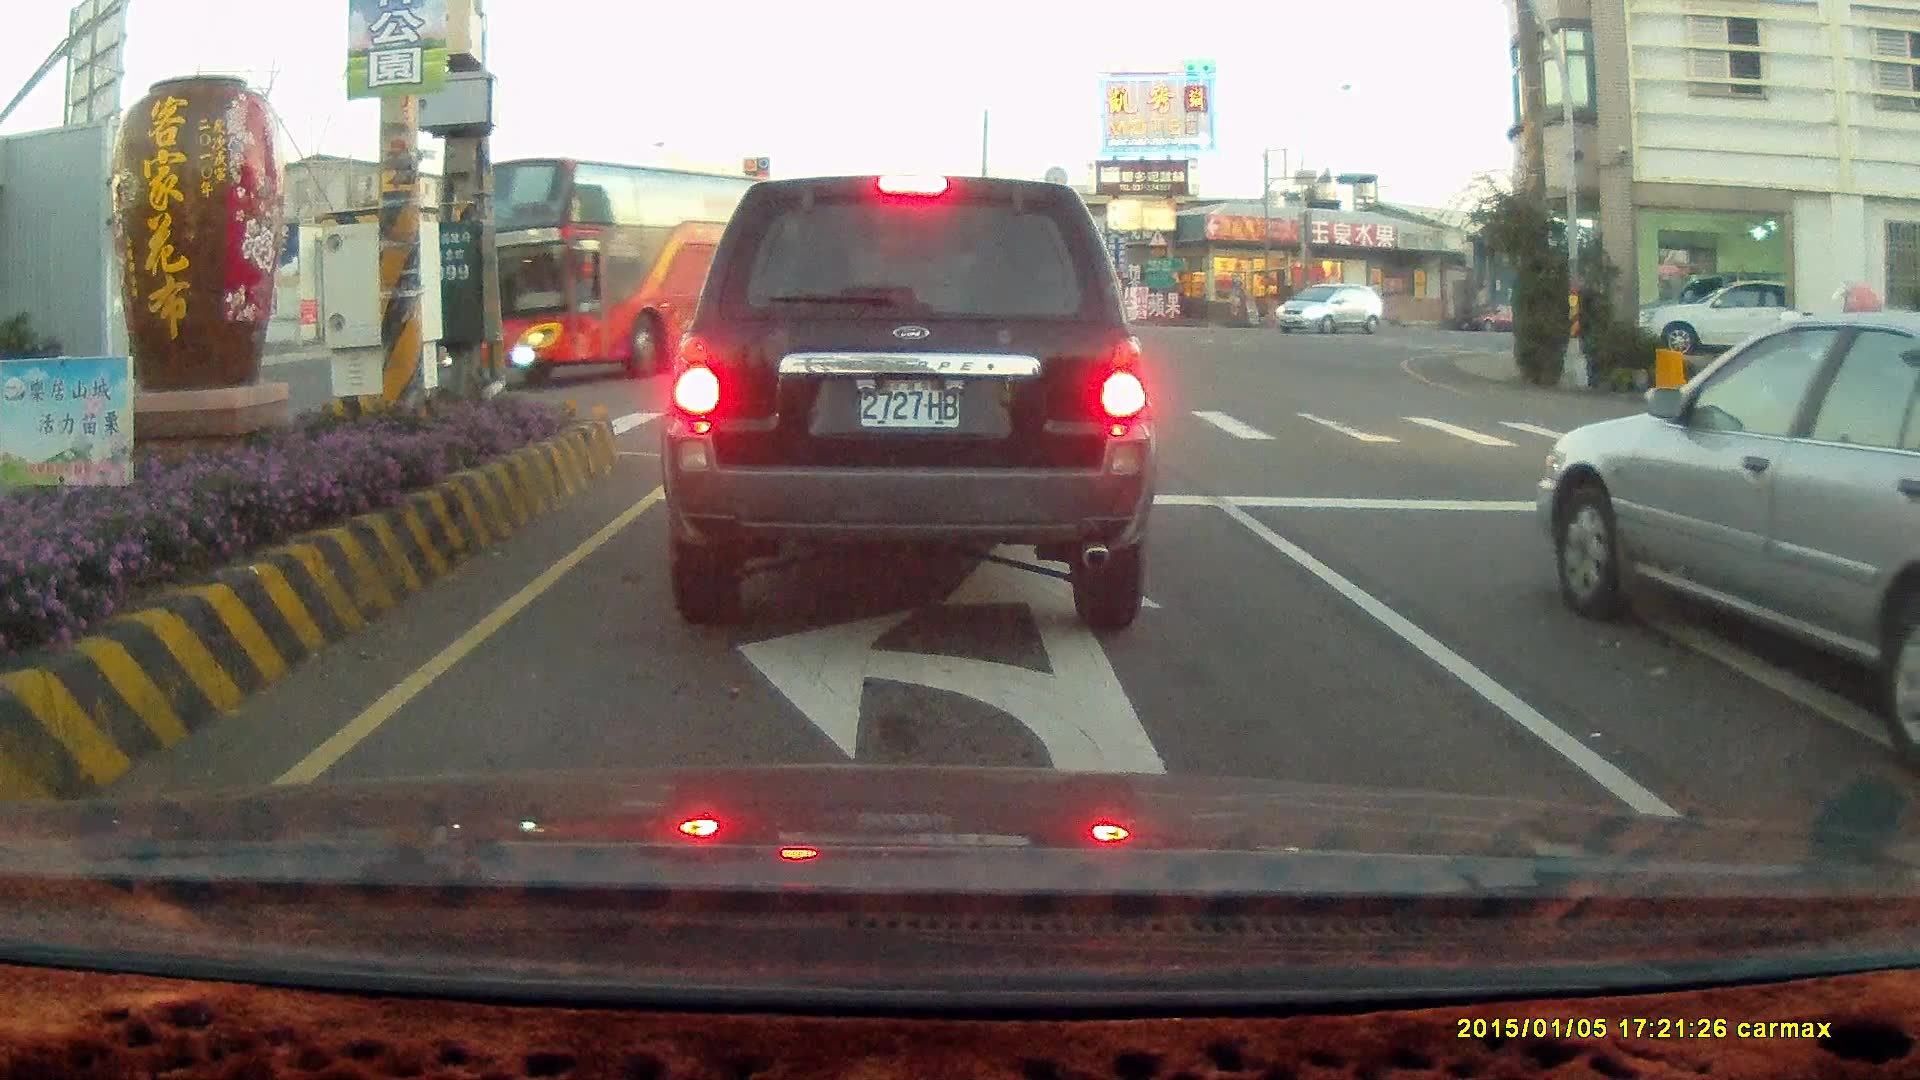vehicle: (655, 173, 1155, 632), (1534, 309, 1920, 783), (1538, 311, 1920, 702), (430, 149, 880, 388), (520, 255, 727, 345), (1629, 276, 1832, 360), (1642, 276, 1784, 356), (1896, 493, 1920, 836), (1274, 284, 1387, 338)
